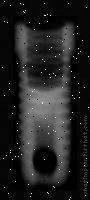Nobel Biocare: (13, 16, 77, 190)
